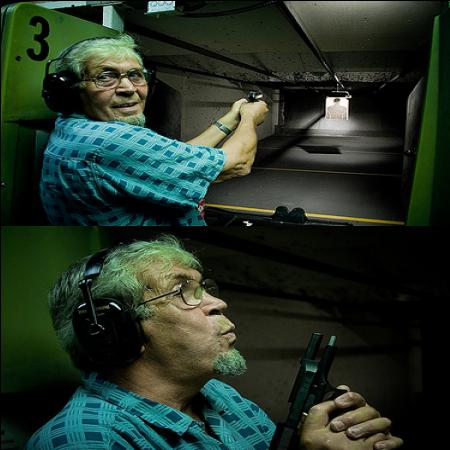Pistol: (266, 329, 352, 449), (239, 88, 264, 99)
